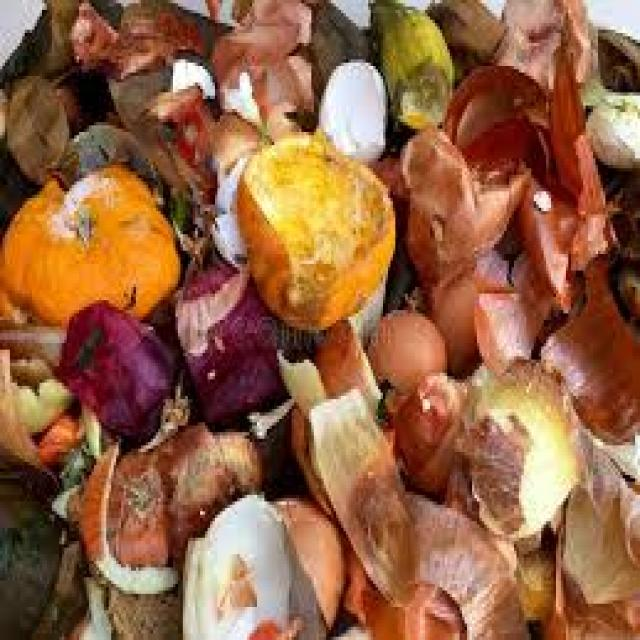organic waste: (0, 0, 638, 637), (309, 389, 524, 637), (516, 23, 638, 439), (237, 132, 393, 333), (0, 158, 178, 326), (178, 485, 324, 637), (173, 238, 282, 426), (445, 60, 556, 244), (401, 129, 522, 290), (462, 356, 573, 528), (57, 297, 183, 439), (289, 320, 378, 515), (551, 422, 638, 600), (79, 438, 173, 590), (0, 0, 123, 115), (0, 465, 82, 637), (165, 416, 262, 551), (106, 380, 173, 564), (134, 82, 212, 228), (200, 109, 267, 264), (368, 0, 449, 125), (205, 0, 309, 92), (274, 485, 341, 627), (425, 258, 512, 366), (69, 0, 200, 69), (496, 0, 596, 86), (390, 373, 464, 488), (0, 72, 69, 182), (109, 49, 168, 175), (366, 310, 442, 403), (425, 0, 507, 86), (319, 56, 383, 158), (250, 40, 312, 138), (59, 116, 151, 182), (580, 76, 638, 165), (544, 584, 638, 637), (0, 346, 37, 468), (509, 538, 558, 620), (10, 373, 74, 435), (101, 587, 180, 637), (608, 168, 637, 304), (274, 346, 329, 416), (308, 0, 368, 59), (0, 320, 59, 376), (338, 280, 386, 346), (72, 570, 114, 636), (338, 538, 371, 614), (34, 409, 82, 459), (244, 392, 292, 436), (368, 148, 408, 194), (74, 400, 99, 446), (12, 356, 54, 376)
